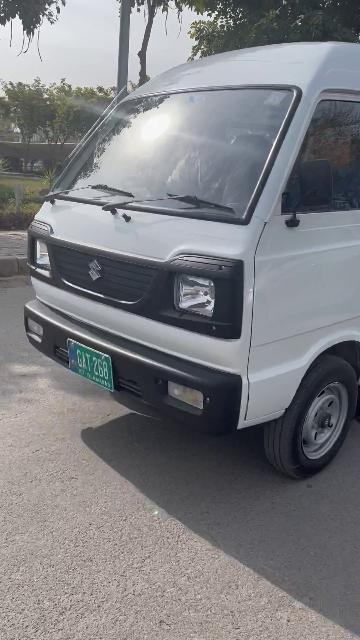plate: (68, 339, 113, 392)
